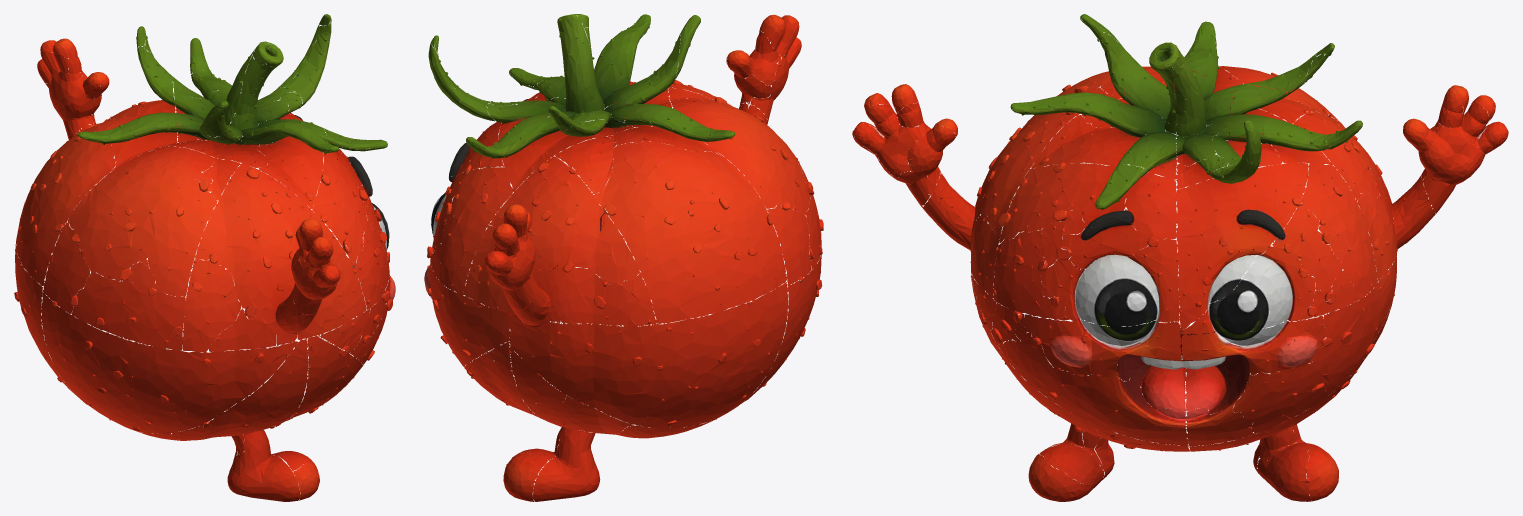
The model's file is tamoto.glb.
3 views of the same model, side by side, from view 1: azimuth 30°, elevation 25°; view 2: azimuth 150°, elevation 25°; view 3: azimuth 270°, elevation 25° (orthographic). The views are drawn at different scales.
Visible parts, largest first — view 1: tamoto; view 2: tamoto; view 3: tamoto.
Part boxes in pixels (<box>): tamoto: <box>14,14,395,501</box>; tamoto: <box>424,14,823,501</box>; tamoto: <box>852,14,1508,501</box>.
Bounding box in the file's own units: 0.6259 × 0.7737 × 0.9997.
Materials: 1 (1 with a texture image).
